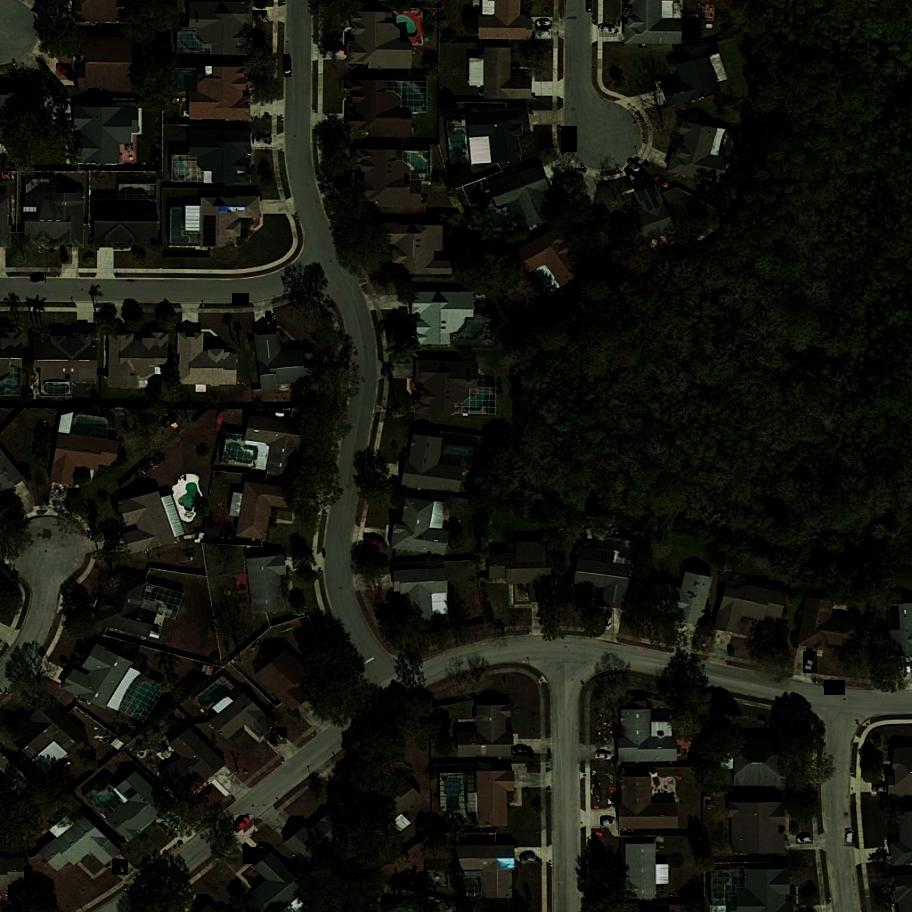small-vehicle: (235, 814, 256, 836), (561, 126, 578, 153), (56, 63, 76, 82), (824, 680, 845, 696), (652, 174, 671, 191), (271, 727, 288, 746), (803, 651, 817, 674), (519, 849, 540, 864), (627, 159, 644, 177), (112, 859, 128, 877), (253, 135, 273, 149), (600, 817, 618, 832), (232, 293, 251, 307), (243, 847, 258, 864), (626, 170, 641, 187), (60, 245, 73, 264), (600, 25, 618, 38), (844, 830, 857, 847), (283, 55, 293, 76), (252, 11, 269, 23), (596, 752, 614, 762), (30, 272, 45, 283), (511, 747, 529, 756), (535, 30, 552, 39), (796, 836, 813, 845), (265, 313, 275, 328), (606, 611, 613, 632), (535, 21, 552, 29)
